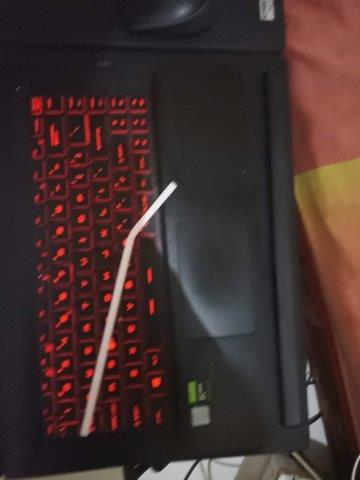sedotan: (80, 182, 177, 436)
